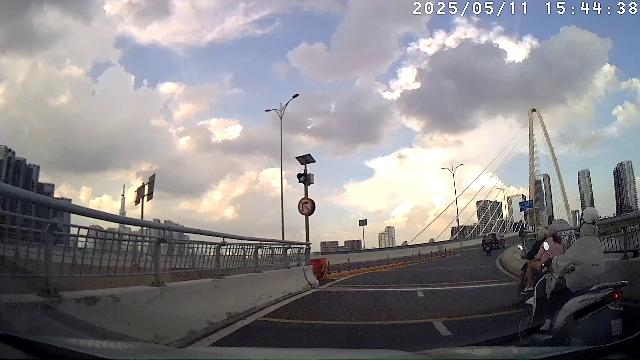123b-cam-re-phai: (298, 196, 314, 216)
